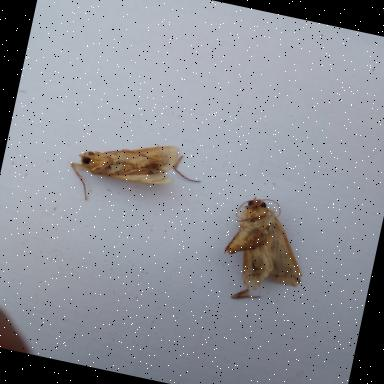abw: (184, 180, 316, 302), (59, 110, 202, 212)
